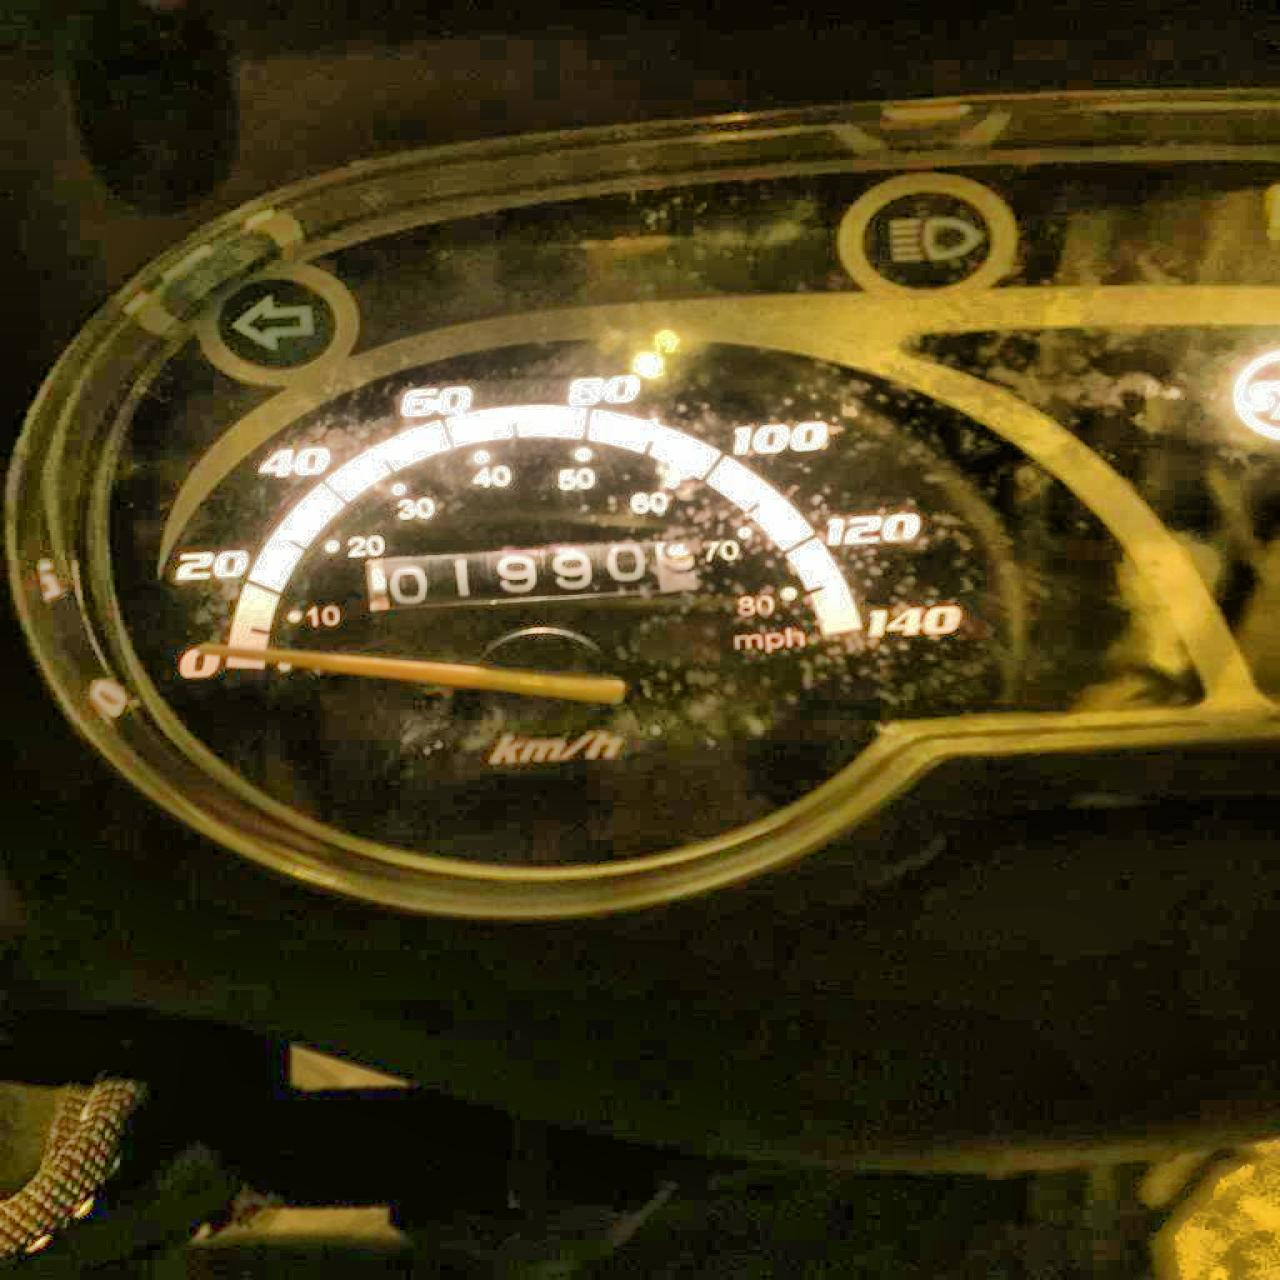0: (387, 561, 433, 604), (602, 541, 646, 581), (365, 534, 387, 555)
1: (450, 552, 475, 602)
9: (495, 554, 537, 594), (550, 550, 593, 588), (658, 538, 698, 578)
odometer: (362, 525, 705, 620)
